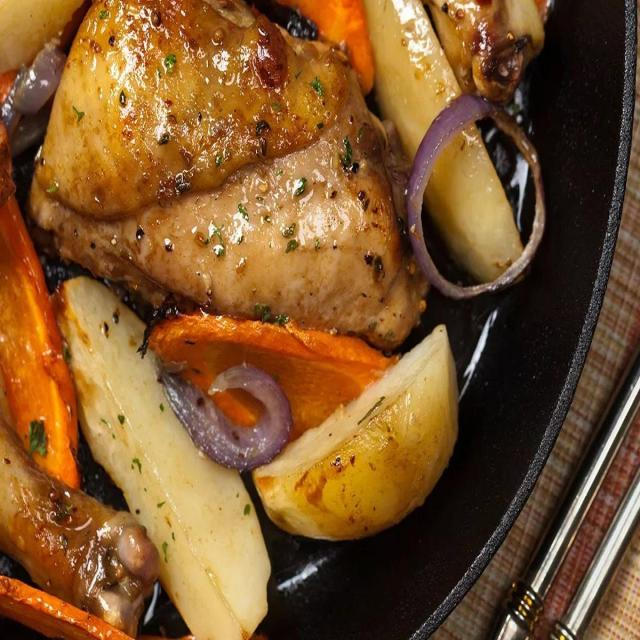papa: (253, 334, 472, 556)
pollo: (34, 0, 431, 338)
